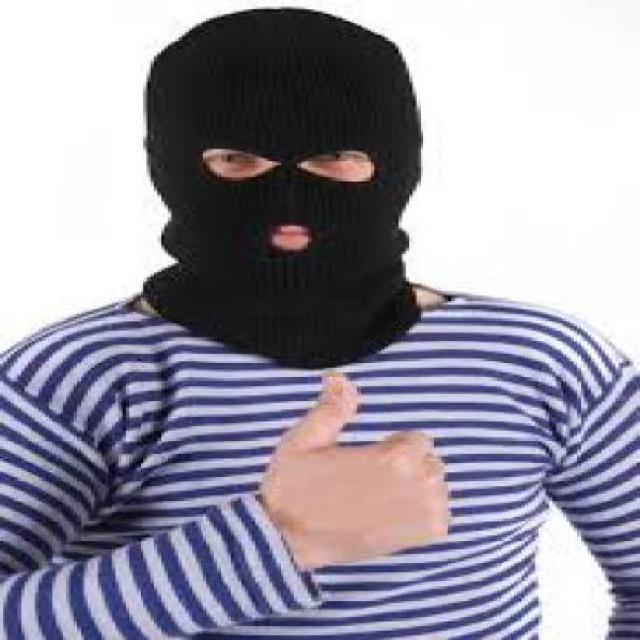6_pasamontana: (142, 7, 422, 371)
